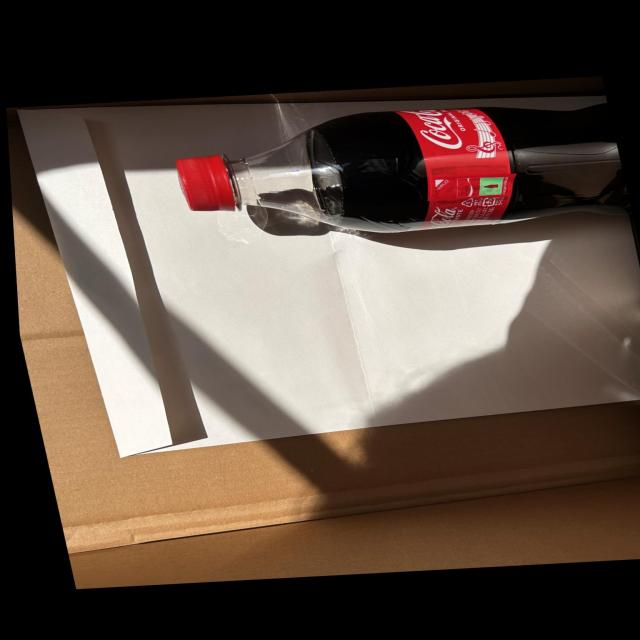high: (176, 104, 630, 232)
